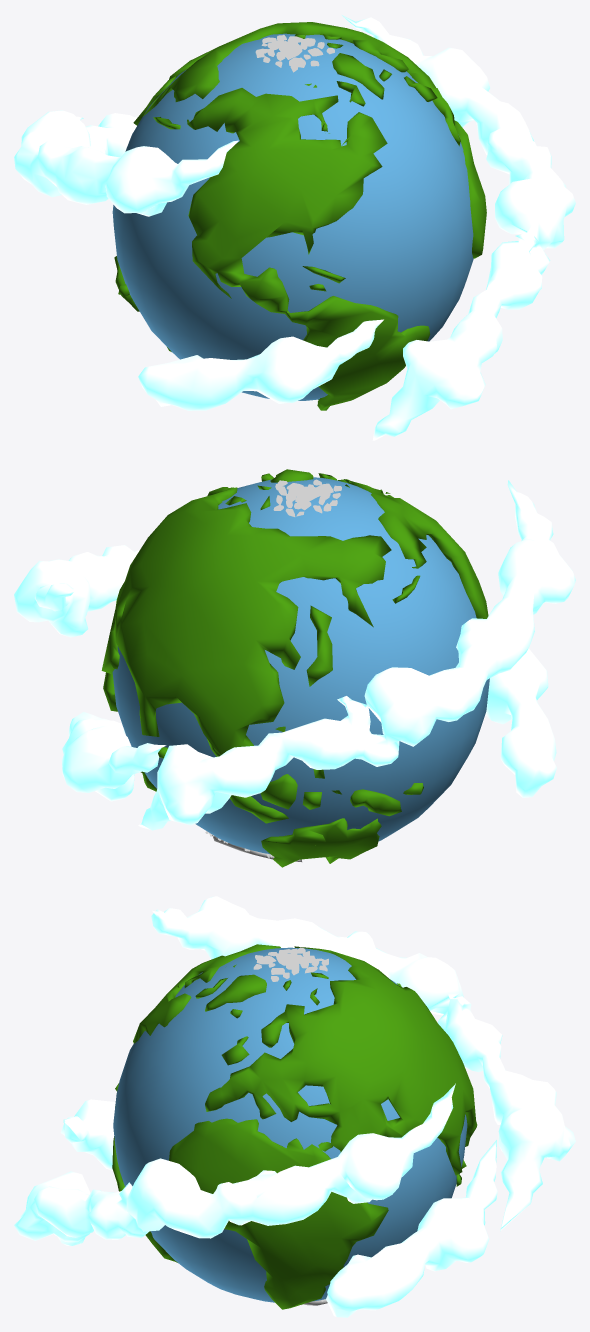
File: globe-v1.glb
3 renders of one model, top to bottom at view 1: azimuth 30°, elevation 25°; view 2: azimuth 150°, elevation 25°; view 3: azimuth 270°, elevation 25°, orthographic. The views are drawn at different scales.
Parts seen in each view (by area): view 1: Object_10, Object_6, Object_7, Object_4; view 2: Object_7, Object_6, Object_10, Object_4; view 3: Object_6, Object_7, Object_10, Object_4.
Boxes of the visible parts, x1,y1,x2,y2 form: Object_10: [112, 33, 473, 400]; Object_6: [14, 15, 575, 440]; Object_7: [114, 22, 486, 410]; Object_4: [255, 34, 334, 72]; Object_7: [101, 469, 488, 867]; Object_6: [14, 480, 575, 830]; Object_10: [112, 477, 489, 854]; Object_4: [205, 479, 341, 861]; Object_6: [14, 896, 575, 1317]; Object_7: [112, 944, 477, 1309]; Object_10: [113, 947, 467, 1302]; Object_4: [253, 947, 328, 1305].
Bounding box in the file's own units: 28.36 × 20.5 × 31.32.
